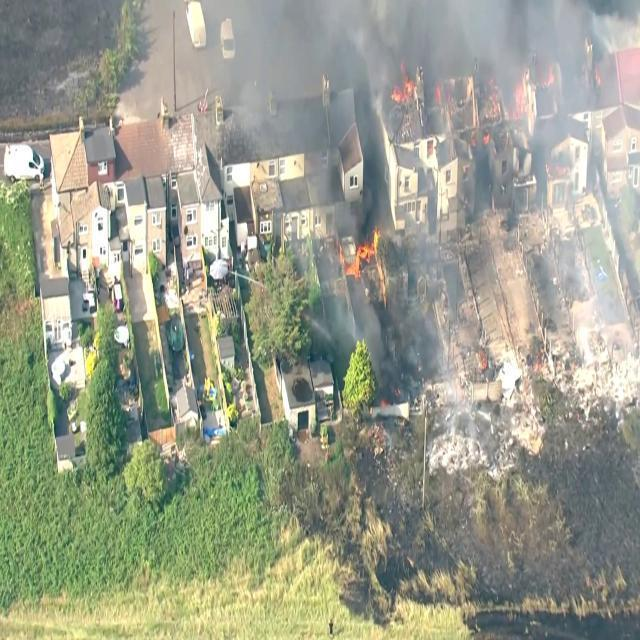Fire: (330, 215, 389, 290)
Smoke: (265, 0, 542, 82)
